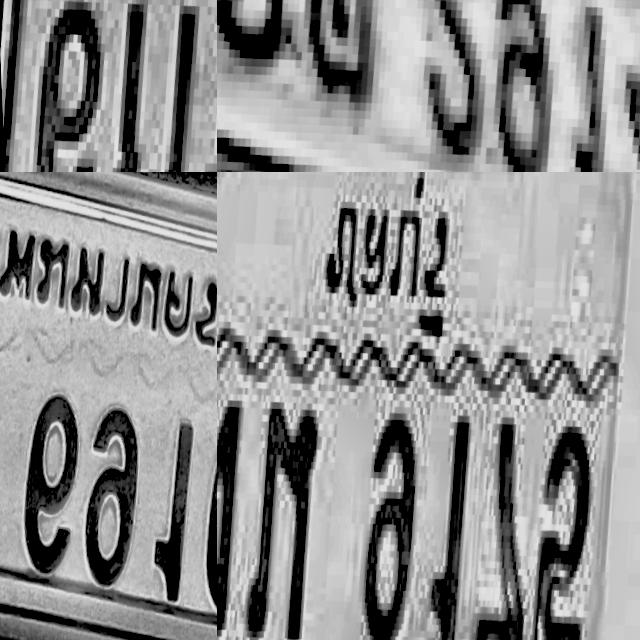license-plate: (217, 172, 640, 640), (0, 172, 217, 640), (217, 0, 640, 172), (0, 0, 217, 172)
